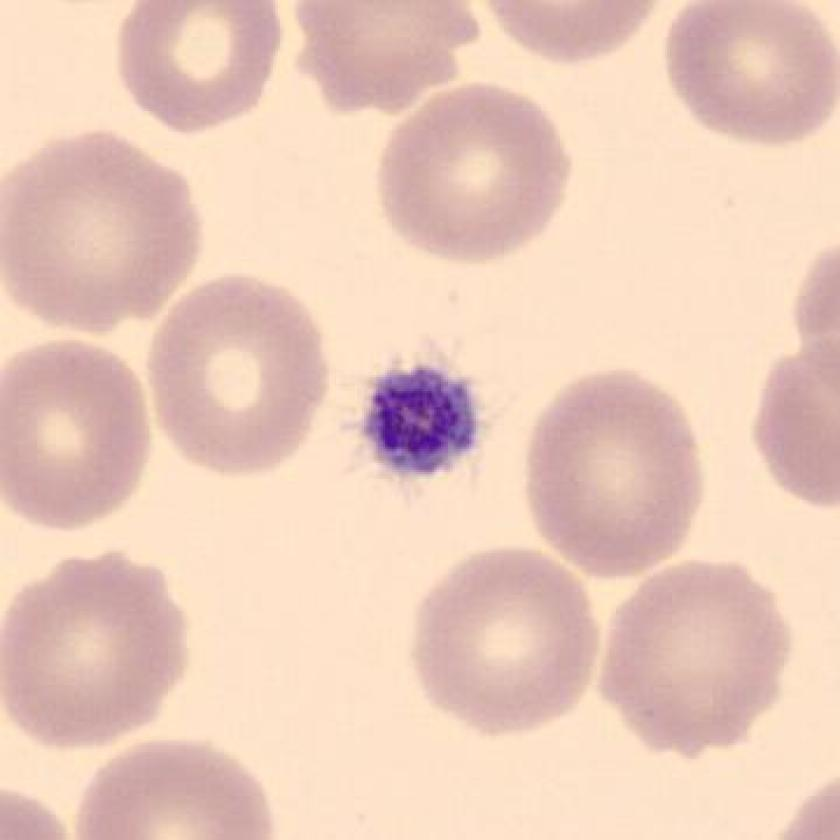platelets: (349, 351, 496, 492)
